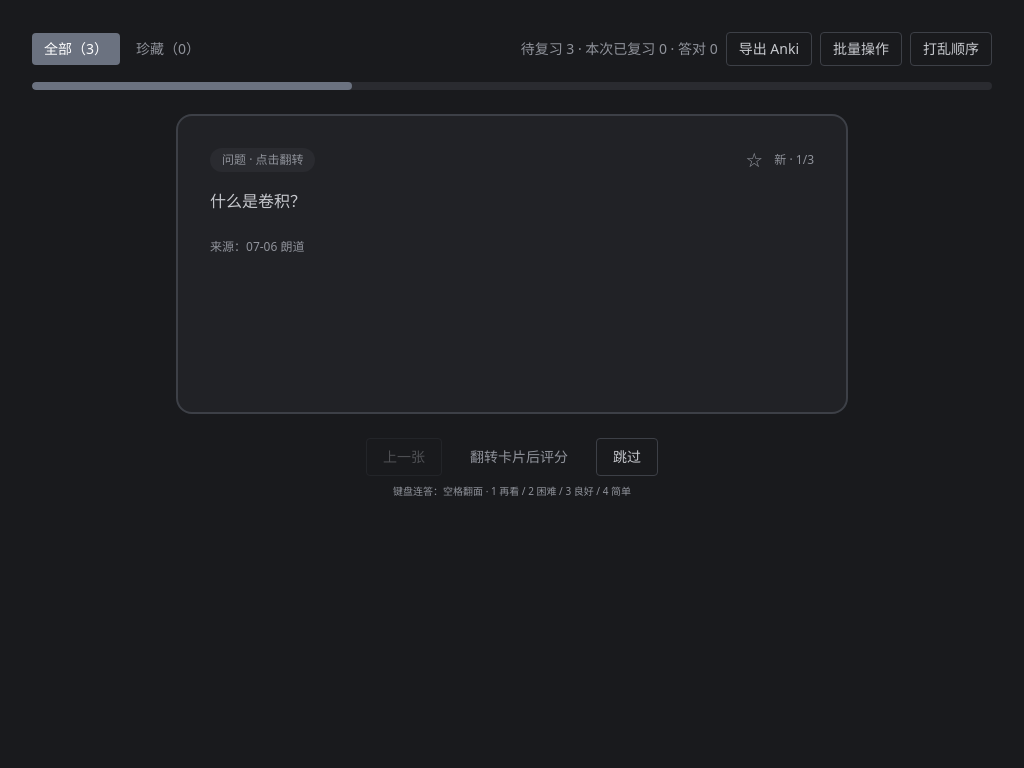
Test: FlashcardReviewView — editing › edits a card and persists the rebuilt artifact content
Click the text "什么是卷积？" at (258, 201), box [210,190,306,212]
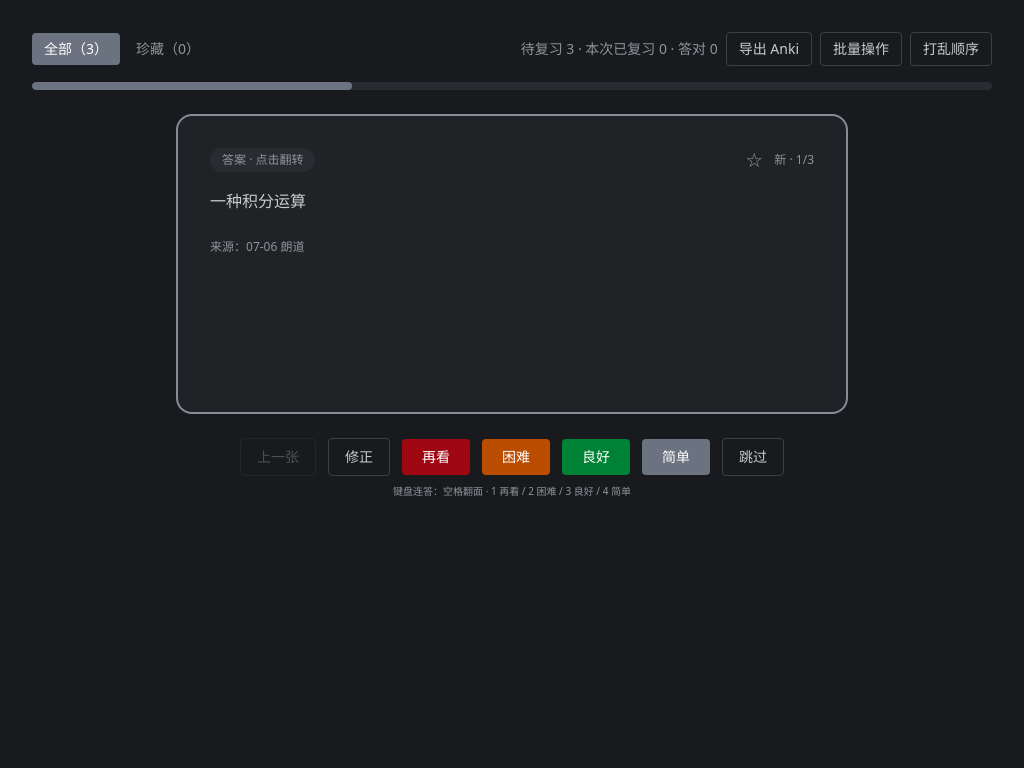
Click the button titled "改正答案或解释" at (359, 457), box [328,438,390,476]
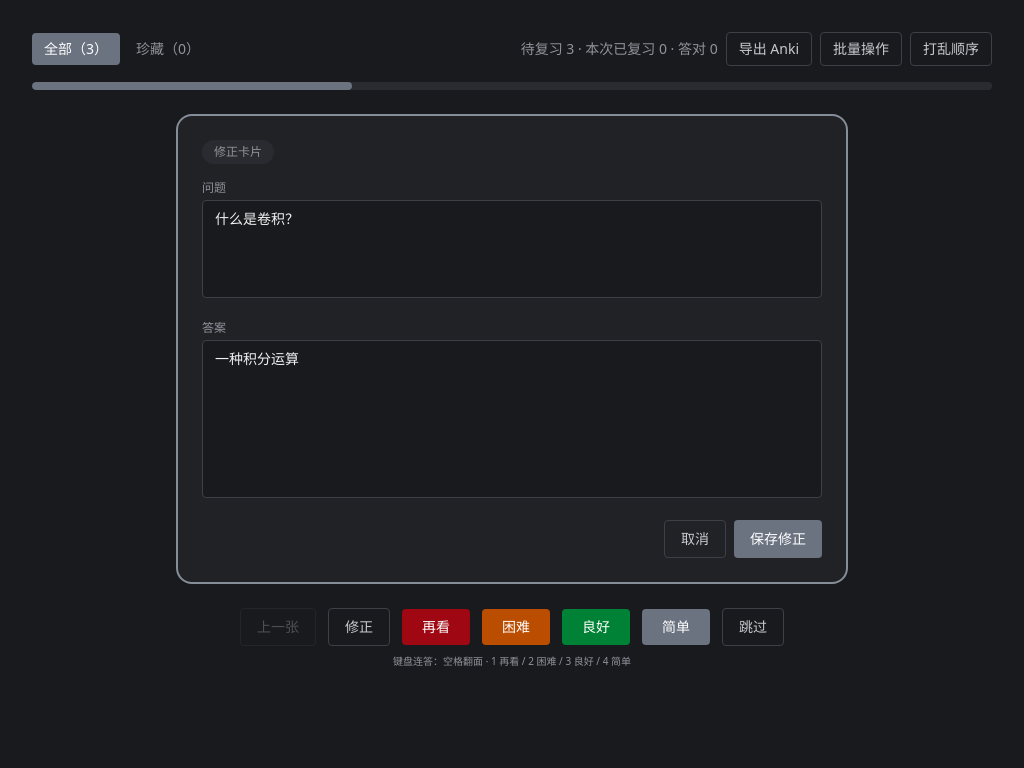
Replace the text in the 1st text box showing "什么是卷积？" with "什么是离散卷积？" at (512, 249), box [202,200,822,298]
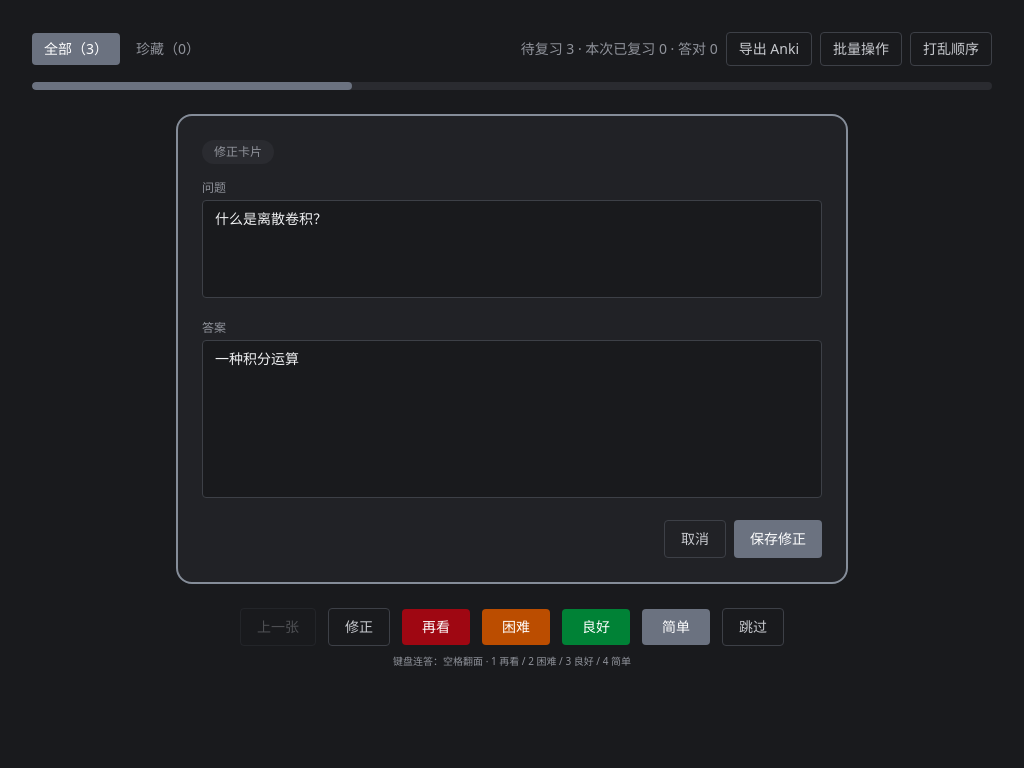
Replace the text in the 2nd text box showing "一种积分运算" with "一种求和运算" at (512, 419), box [202,340,822,498]
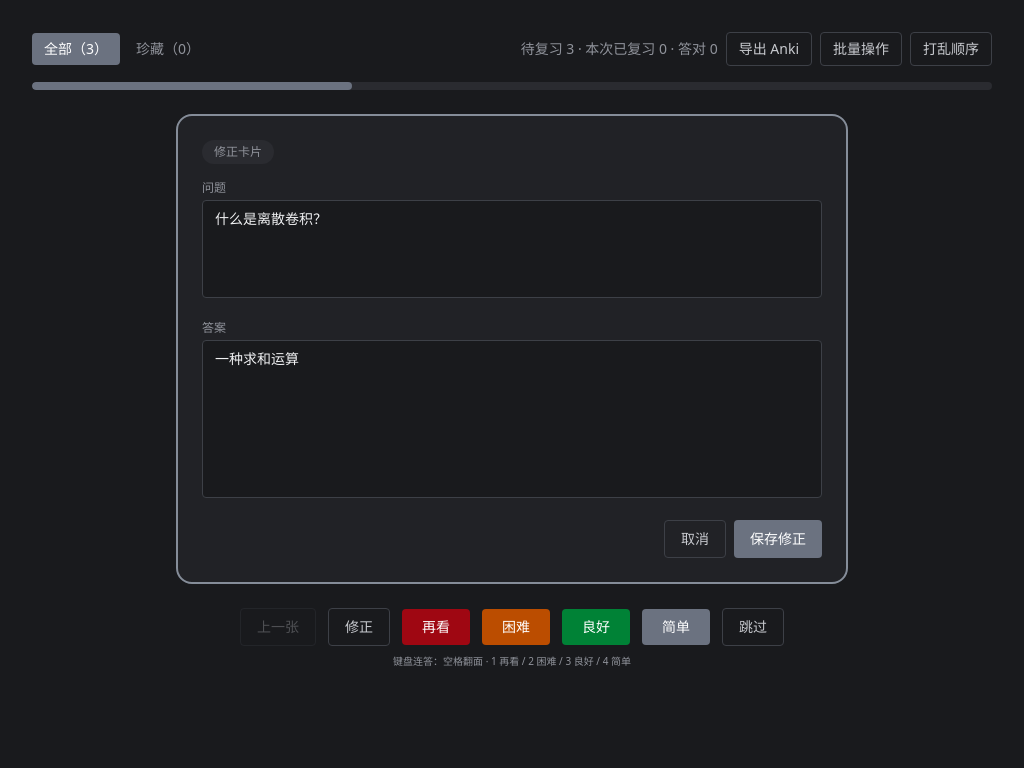
Click the button "保存修正" at (778, 539), box [734,520,822,558]
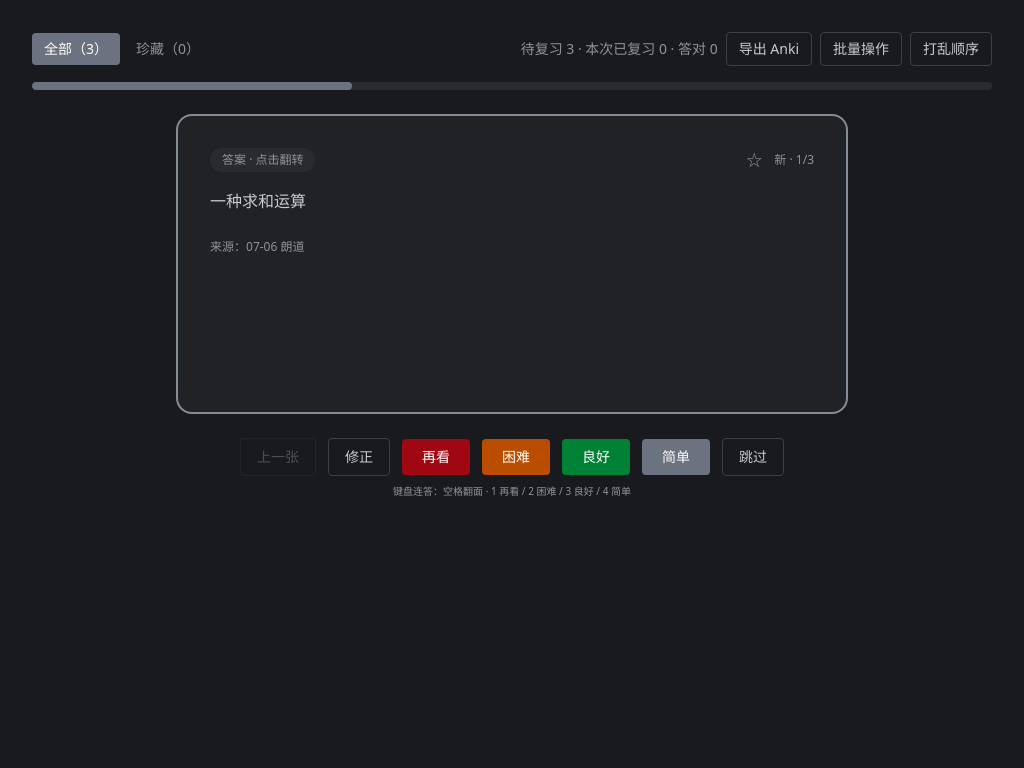
Expected: the button "保存修正" is gone
